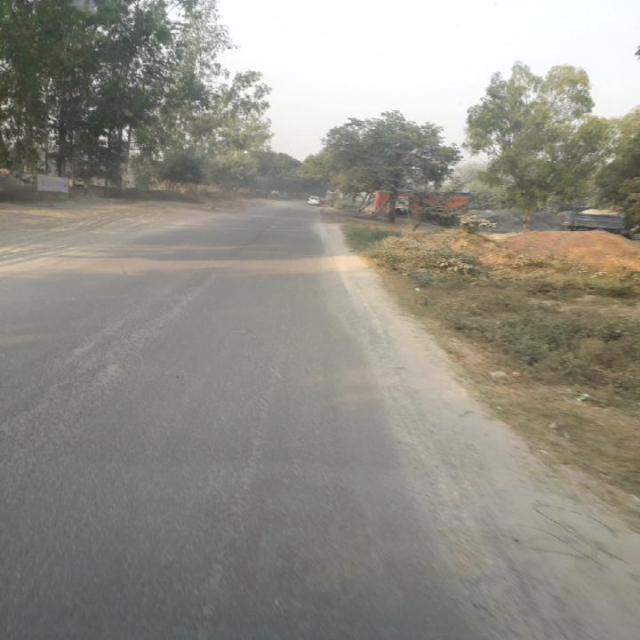crack: (1, 281, 180, 435)
pothole: (190, 297, 302, 611)
